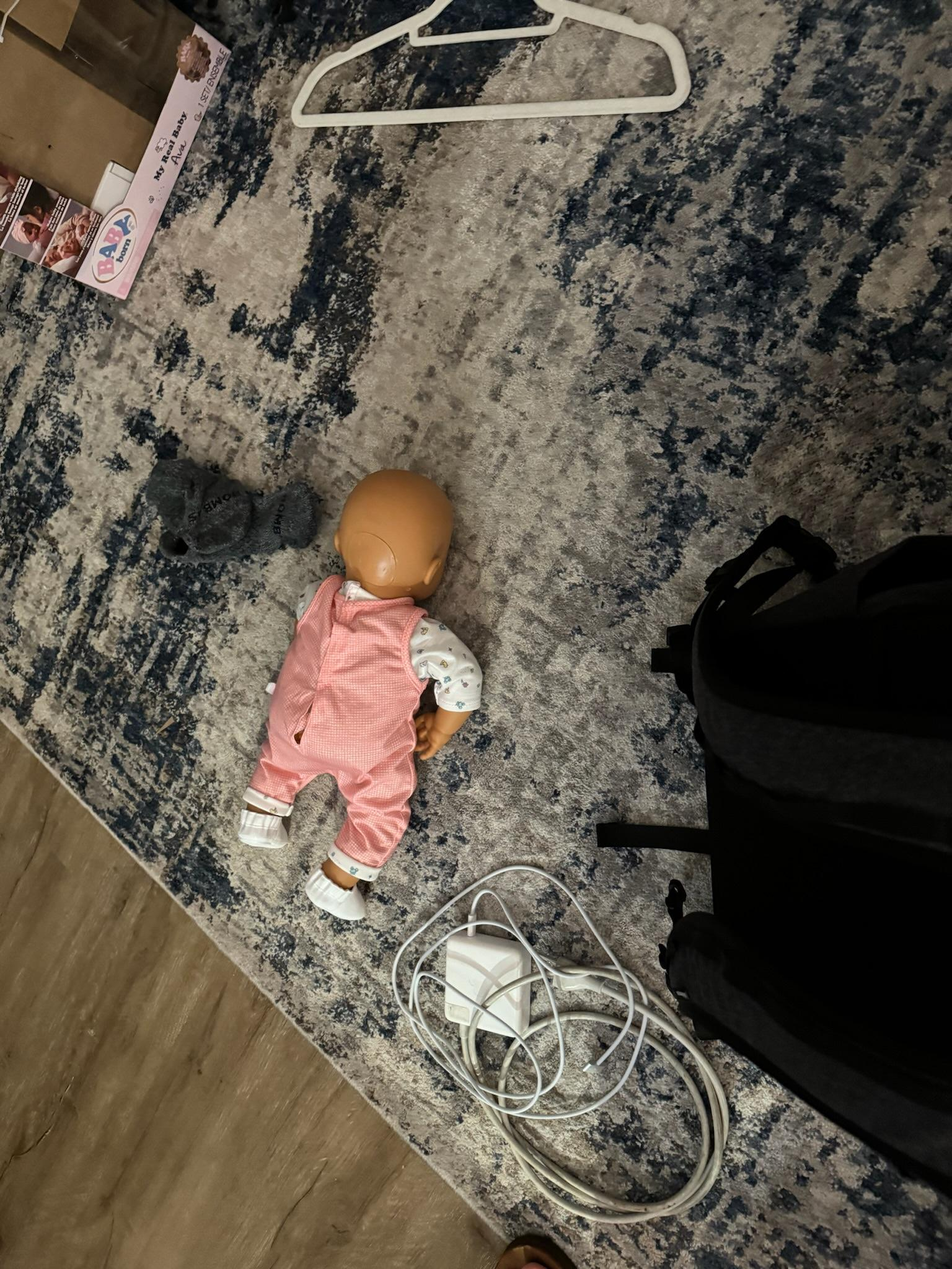baby: (231, 459, 488, 923)
